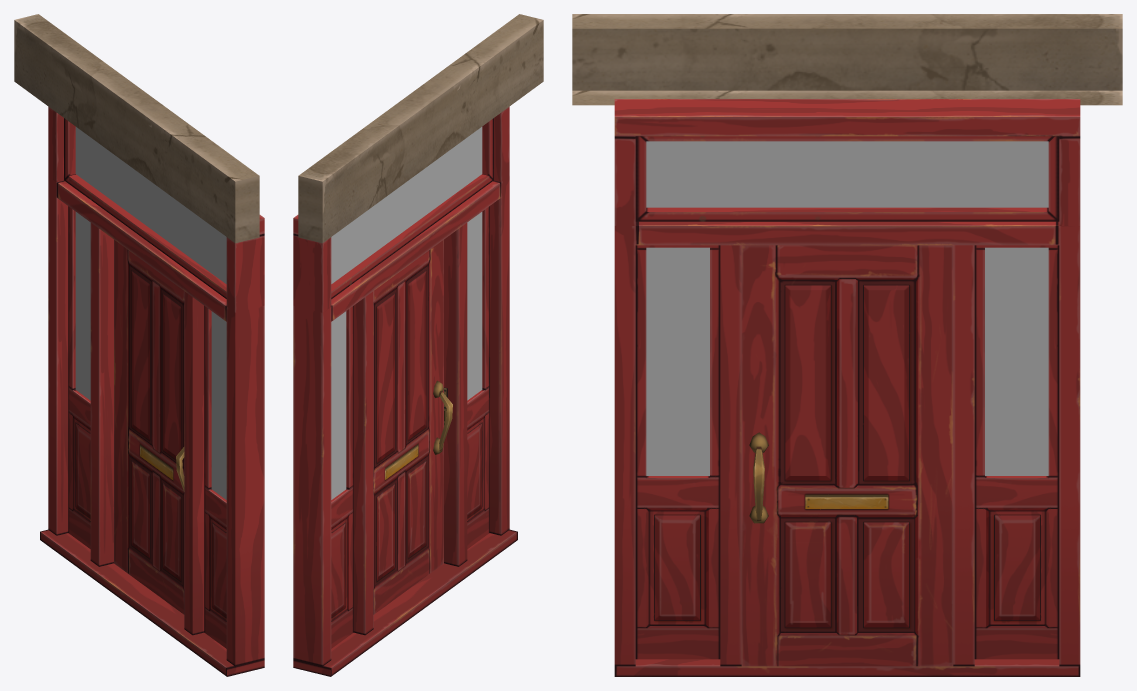
Rendered from door12.FBX.
The picture shows the model from 3 angles, left to right: view 1: azimuth 30°, elevation 25°; view 2: azimuth 150°, elevation 25°; view 3: azimuth 270°, elevation 25°; orthographic projection. The views are drawn at different scales.
Visible parts, largest first — view 1: door12_frame, door12, door12_glass, door12_glassR, door12_glassL; view 2: door12_frame, door12, door12_glass, door12_glassR, door12_glassL; view 3: door12_frame, door12, door12_glass, door12_glassR, door12_glassL.
Boxes of the visible parts, x1,y1,x2,y2 form: door12_frame: [14, 14, 264, 676]; door12: [114, 240, 184, 614]; door12_glass: [75, 127, 226, 283]; door12_glassR: [211, 311, 226, 499]; door12_glassL: [75, 212, 90, 400]; door12_frame: [293, 14, 543, 676]; door12: [373, 240, 452, 614]; door12_glass: [331, 127, 482, 283]; door12_glassR: [467, 212, 482, 400]; door12_glassL: [331, 311, 346, 499]; door12_frame: [572, 14, 1122, 676]; door12: [741, 245, 953, 666]; door12_glass: [646, 141, 1048, 207]; door12_glassR: [646, 247, 709, 475]; door12_glassL: [985, 247, 1048, 475].
Bounding box in the file's own units: 41.04 × 331 × 260.
